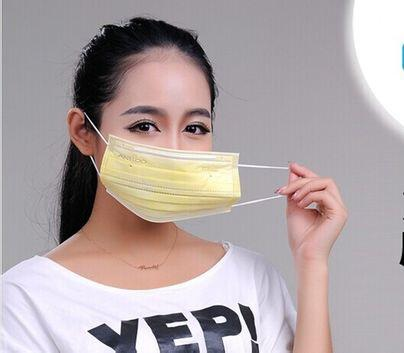WRONG: (96, 97, 222, 219)
